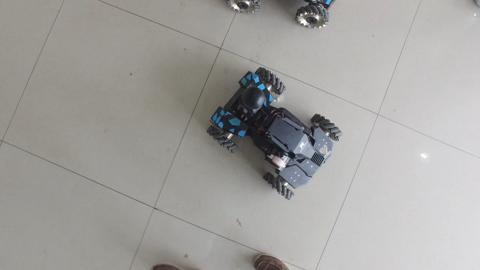chariot: (196, 60, 351, 202)
